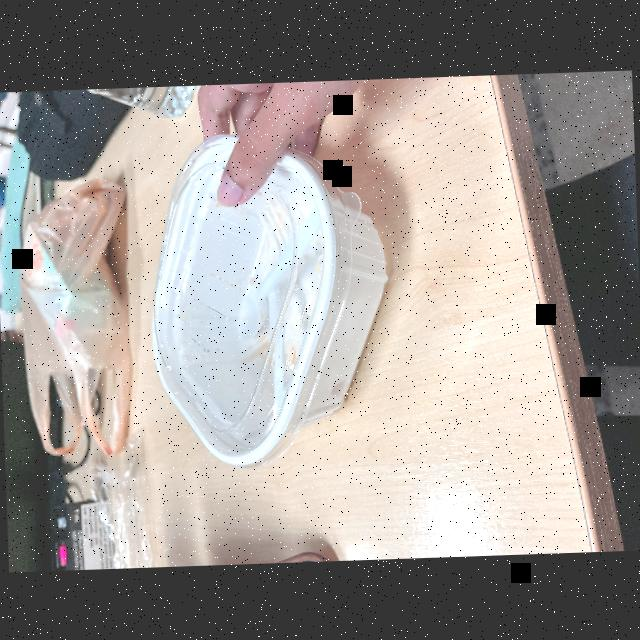plastic_box: (128, 122, 406, 476)
